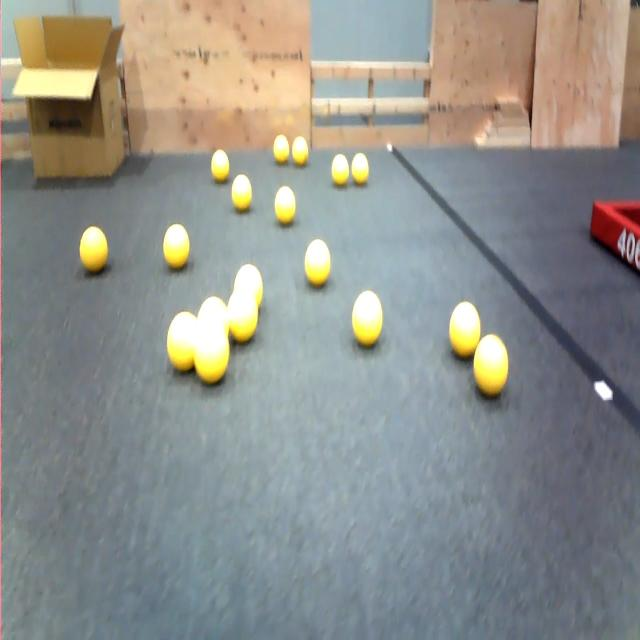fuel: (468, 323, 516, 407), (191, 317, 233, 398), (157, 308, 206, 376), (344, 284, 389, 358), (443, 296, 486, 367), (226, 285, 264, 346), (75, 221, 114, 279), (233, 253, 270, 312), (162, 218, 197, 276), (301, 234, 335, 292), (223, 164, 258, 217), (192, 286, 232, 329), (348, 141, 375, 198), (207, 131, 230, 191), (326, 145, 352, 191), (289, 130, 314, 176), (272, 183, 299, 224), (268, 126, 292, 165)
